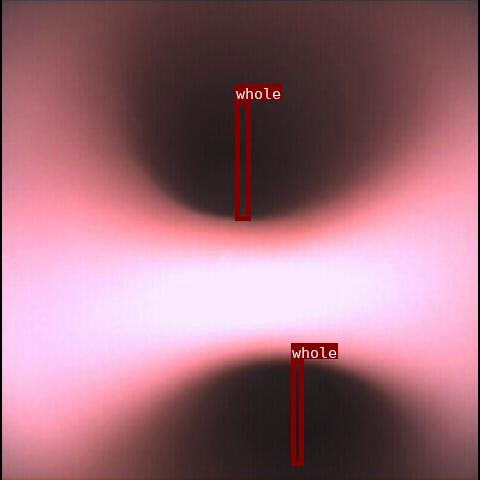whole: (235, 100, 250, 220), (291, 359, 303, 465)
